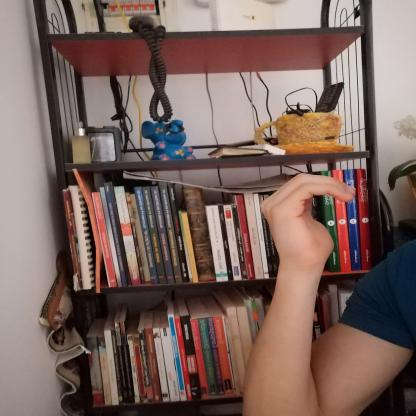HAA: (250, 164, 372, 278)
